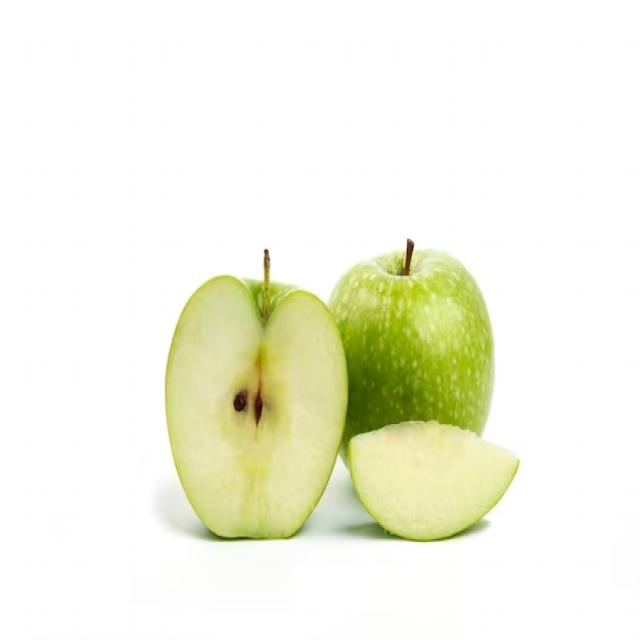Apple: (163, 250, 352, 544), (327, 242, 496, 488), (345, 421, 521, 544)
